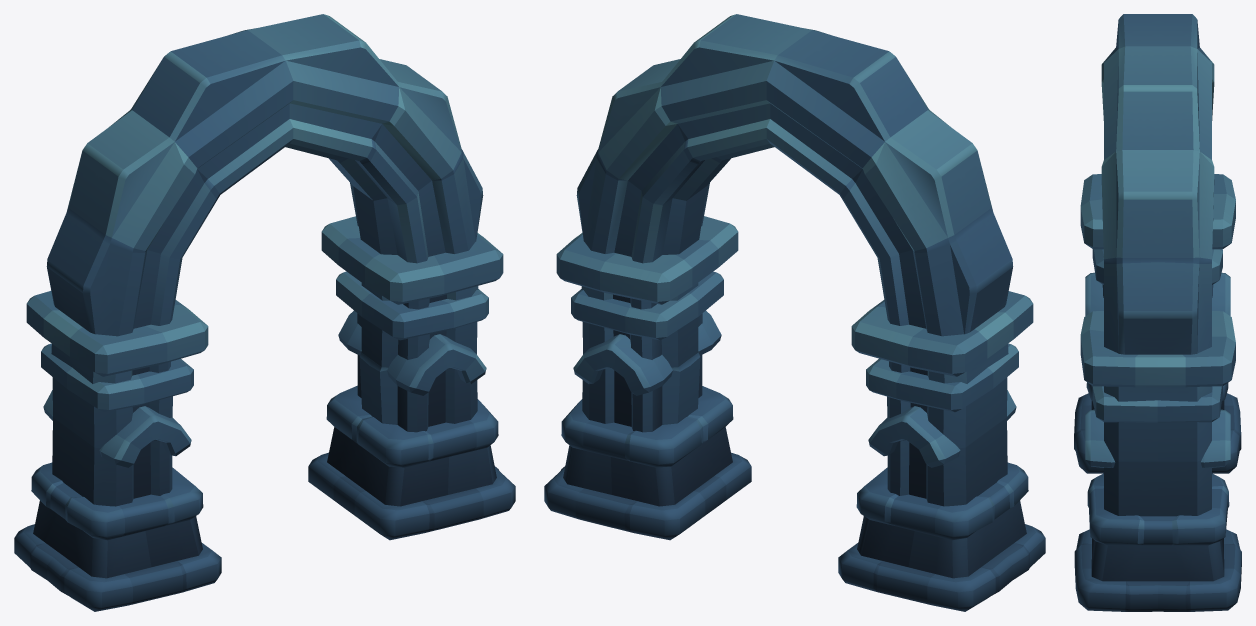
The model's file is archway.fbx.
3 renders of one model, left to right at view 1: azimuth 30°, elevation 25°; view 2: azimuth 150°, elevation 25°; view 3: azimuth 270°, elevation 25°, orthographic. The views are drawn at different scales.
Visible parts, largest first — view 1: archway; view 2: archway; view 3: archway.
Part boxes in pixels (x1,y1,x2,y2): archway: [14, 14, 515, 611]; archway: [544, 14, 1045, 611]; archway: [1074, 14, 1241, 611].
Size of the model in its own units: 520 by 558 by 181.
